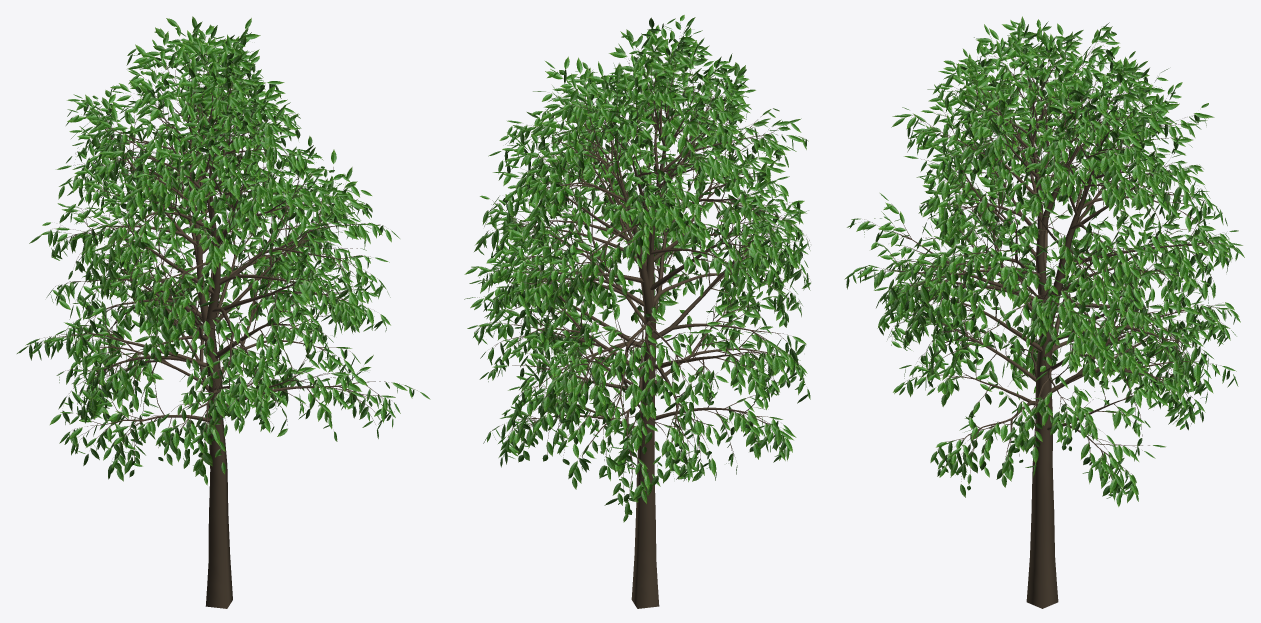
File: Pohon damar mata kucing.fbx
The picture shows the model from 3 angles, left to right: view 1: azimuth 30°, elevation 25°; view 2: azimuth 150°, elevation 25°; view 3: azimuth 270°, elevation 25°; orthographic projection.
Parts seen in each view (by area): view 1: leaves; view 2: leaves; view 3: leaves.
Boxes of the visible parts, box(x1,y1,x2,y2) form: leaves: box(17, 16, 430, 608); leaves: box(464, 15, 810, 608); leaves: box(844, 16, 1244, 608).
Bounding box in the file's own units: 1974 × 3258 × 2054.
2 materials, 1 textured.
